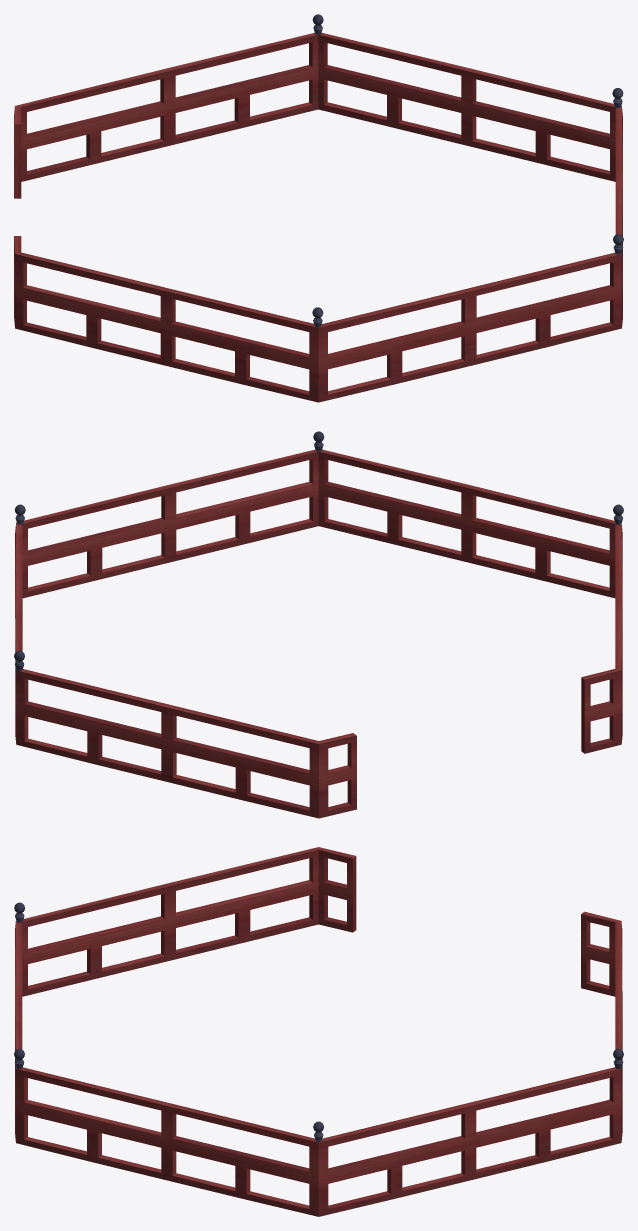
File: ts-barrier-vip.glb
3 renders of one model, top to bottom at view 1: azimuth 30°, elevation 25°; view 2: azimuth 150°, elevation 25°; view 3: azimuth 270°, elevation 25°, orthographic.
Parts seen in each view (by area): view 1: VipBarrier01_Art; view 2: VipBarrier01_Art; view 3: VipBarrier01_Art.
Part boxes in pixels (x1,y1,x2,y2): VipBarrier01_Art: [14, 14, 623, 402]; VipBarrier01_Art: [14, 431, 623, 818]; VipBarrier01_Art: [14, 847, 623, 1216].
Size of the model in its own units: 27.77 by 4.06 by 24.19.
1 material, 1 textured.
